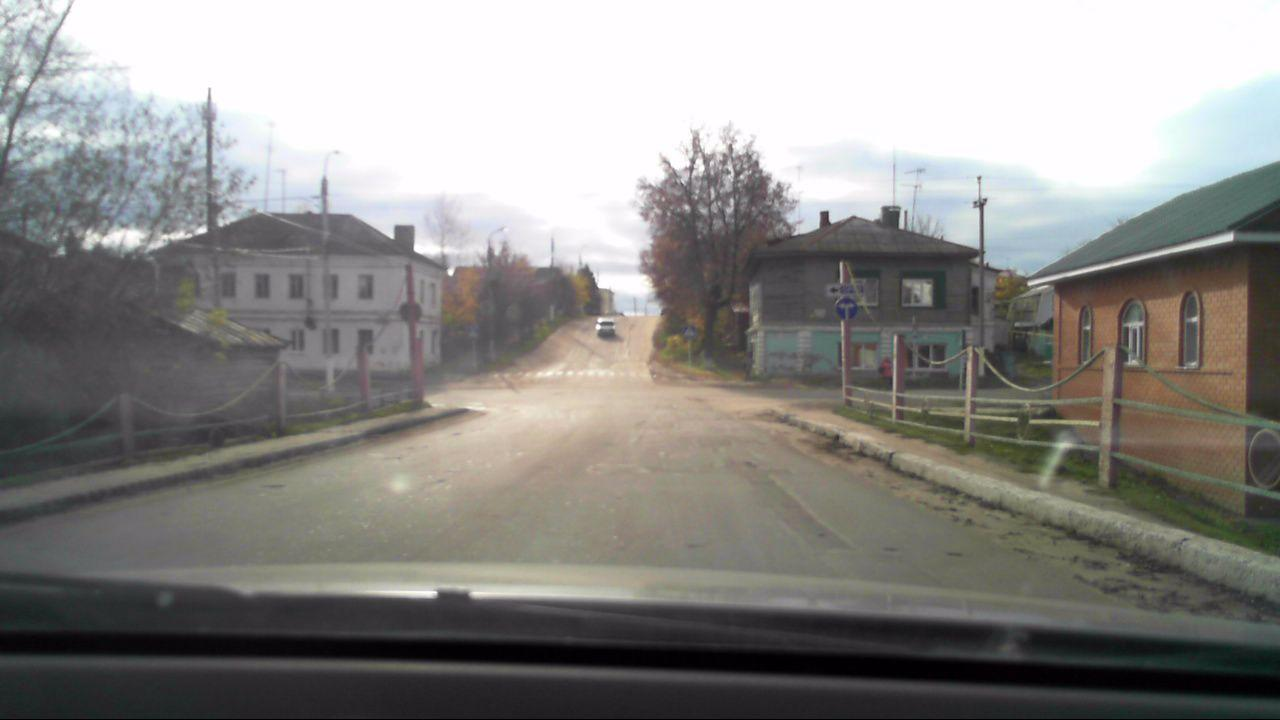4_1_6: (834, 298, 859, 322)
